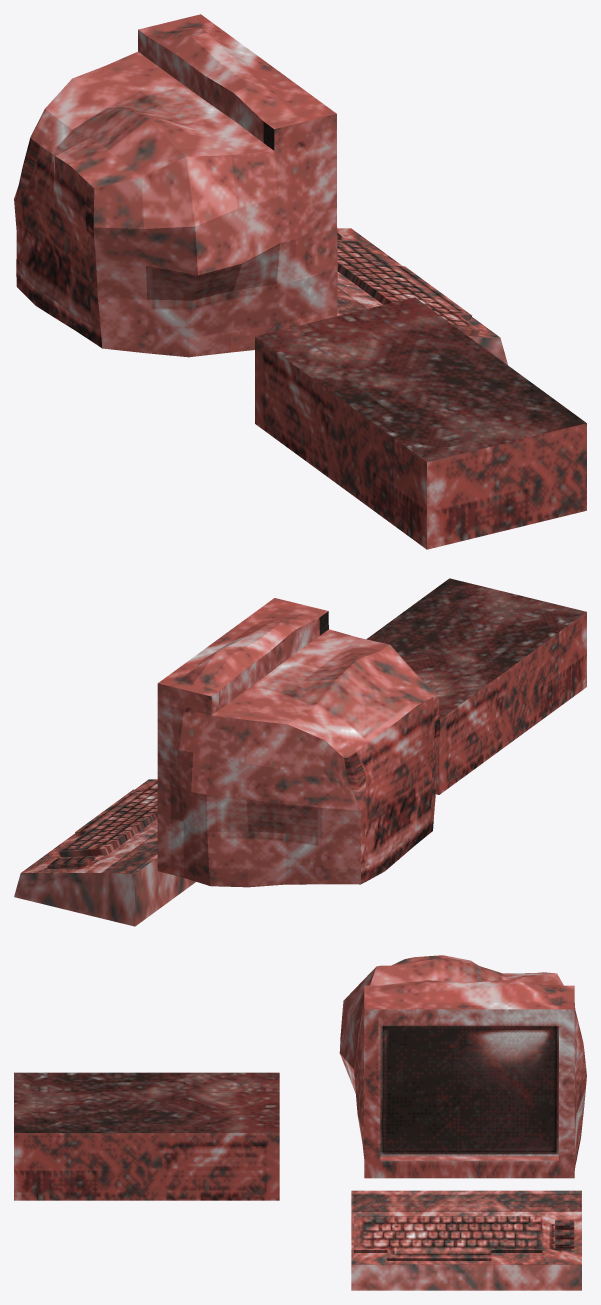
File: FleshComputer.fbx
3 views of the same model, one above another, from view 1: azimuth 30°, elevation 25°; view 2: azimuth 150°, elevation 25°; view 3: azimuth 270°, elevation 25° (orthographic). The views are drawn at different scales.
Visible parts, largest first — view 1: Cube, Cube.003, Cube.002; view 2: Cube, Cube.003, Cube.002; view 3: Cube, Cube.003, Cube.002.
Boxes of the visible parts, left/top/right/bottom form: Cube: left=14, top=14, right=337, bottom=357; Cube.003: left=255, top=297, right=586, bottom=549; Cube.002: left=337, top=228, right=507, bottom=364; Cube: left=157, top=598, right=440, bottom=887; Cube.003: left=366, top=578, right=586, bottom=794; Cube.002: left=14, top=779, right=195, bottom=926; Cube: left=339, top=955, right=586, bottom=1178; Cube.003: left=14, top=1072, right=279, bottom=1200; Cube.002: left=351, top=1190, right=581, bottom=1290.
Bounding box in the file's own units: 152 × 115 × 256.
